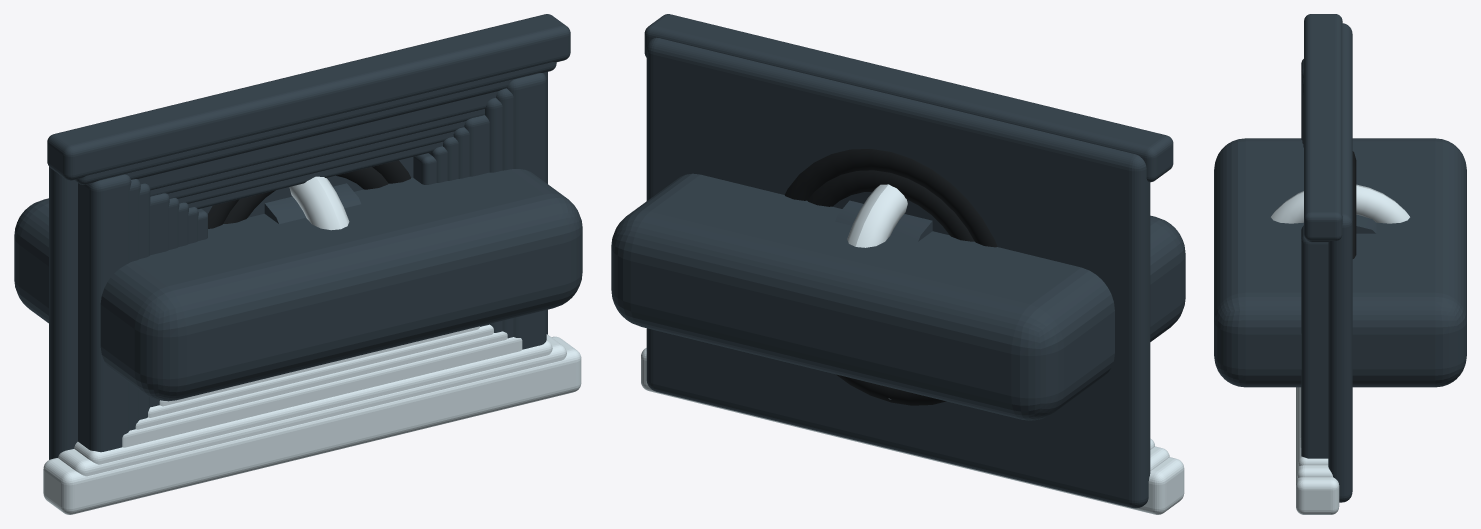
The model's file is body_06.glb.
3 renders of one model, left to right at view 1: azimuth 30°, elevation 25°; view 2: azimuth 150°, elevation 25°; view 3: azimuth 270°, elevation 25°, orthographic. The views are drawn at different scales.
Parts seen in each view (by area): view 1: asset_mesh__body_0386__reference_body, asset_mesh__body_0377__lower_flange, asset_mesh__body_0377__upper_flange, asset_mesh__body_0377__left_reinforcement, asset_mesh__body_0377__stamped_sheet, asset_mesh__body_0373__upper_flange, asset_mesh__body_0384__upper_flange, asset_mesh__body_0373__lower_flange, asset_mesh__body_0376__upper_flange, asset_mesh__body_0377__right_reinforcement, asset_mesh__body_0376__lower_flange, asset_mesh__body_0384__lower_flange (+19 smaller); view 2: asset_mesh__body_0377__stamped_sheet, asset_mesh__body_0386__reference_body, asset_mesh__body_0377__lower_flange, asset_mesh__body_0420__service_element, asset_mesh__body_0417__service_element, asset_mesh__body_0377__upper_flange, asset_mesh__body_0415__functional_ring, asset_mesh__body_0415__rotor; view 3: asset_mesh__body_0386__reference_body, asset_mesh__body_0377__lower_flange, asset_mesh__body_0377__stamped_sheet, asset_mesh__body_0377__right_reinforcement, asset_mesh__body_0415__functional_ring, asset_mesh__body_0377__upper_flange, asset_mesh__body_0376__upper_flange, asset_mesh__body_0420__service_element, asset_mesh__body_0384__upper_flange, asset_mesh__body_0415__rotor.
Boxes of the visible parts, bbox=[...] form: asset_mesh__body_0386__reference_body: bbox=[14, 169, 582, 401]; asset_mesh__body_0377__lower_flange: bbox=[47, 14, 570, 180]; asset_mesh__body_0377__upper_flange: bbox=[43, 336, 581, 514]; asset_mesh__body_0377__left_reinforcement: bbox=[78, 174, 131, 452]; asset_mesh__body_0377__stamped_sheet: bbox=[49, 72, 547, 459]; asset_mesh__body_0373__upper_flange: bbox=[122, 337, 522, 447]; asset_mesh__body_0384__upper_flange: bbox=[74, 340, 552, 464]; asset_mesh__body_0373__lower_flange: bbox=[138, 91, 498, 190]; asset_mesh__body_0376__upper_flange: bbox=[58, 334, 566, 476]; asset_mesh__body_0377__right_reinforcement: bbox=[507, 73, 546, 349]; asset_mesh__body_0376__lower_flange: bbox=[74, 62, 556, 184]; asset_mesh__body_0384__lower_flange: bbox=[98, 73, 539, 180]; asset_mesh__body_0377__stamped_sheet: bbox=[646, 37, 1150, 508]; asset_mesh__body_0386__reference_body: bbox=[611, 173, 1185, 420]; asset_mesh__body_0377__lower_flange: bbox=[644, 14, 1173, 182]; asset_mesh__body_0420__service_element: bbox=[785, 149, 997, 405]; asset_mesh__body_0417__service_element: bbox=[807, 170, 974, 241]; asset_mesh__body_0377__upper_flange: bbox=[641, 348, 1184, 514]; asset_mesh__body_0415__functional_ring: bbox=[847, 184, 907, 247]; asset_mesh__body_0415__rotor: bbox=[835, 200, 932, 241]; asset_mesh__body_0386__reference_body: bbox=[1214, 138, 1466, 387]; asset_mesh__body_0377__lower_flange: bbox=[1304, 14, 1342, 240]; asset_mesh__body_0377__stamped_sheet: bbox=[1328, 23, 1352, 502]; asset_mesh__body_0377__right_reinforcement: bbox=[1301, 225, 1328, 458]; asset_mesh__body_0415__functional_ring: bbox=[1271, 184, 1409, 223]; asset_mesh__body_0377__upper_flange: bbox=[1296, 387, 1339, 514]; asset_mesh__body_0376__upper_flange: bbox=[1297, 387, 1332, 477]; asset_mesh__body_0420__service_element: bbox=[1352, 151, 1356, 258]; asset_mesh__body_0384__upper_flange: bbox=[1298, 387, 1328, 466]; asset_mesh__body_0415__rotor: bbox=[1356, 214, 1376, 233].
Bounding box in the file's own units: 1.72 × 1.15 × 0.882.
